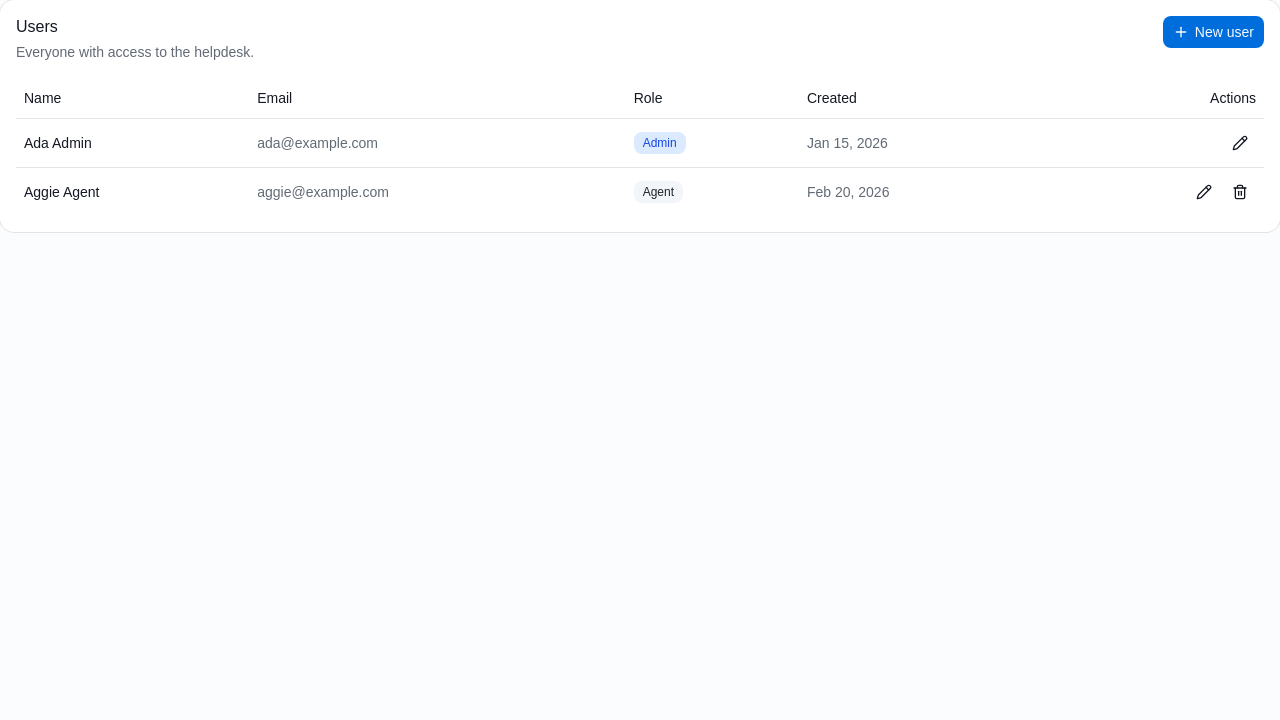
UsersPage › the New user dialog › opens when the New user button is clicked
Click the button "New user": (1213, 32) [1163,16,1264,48]
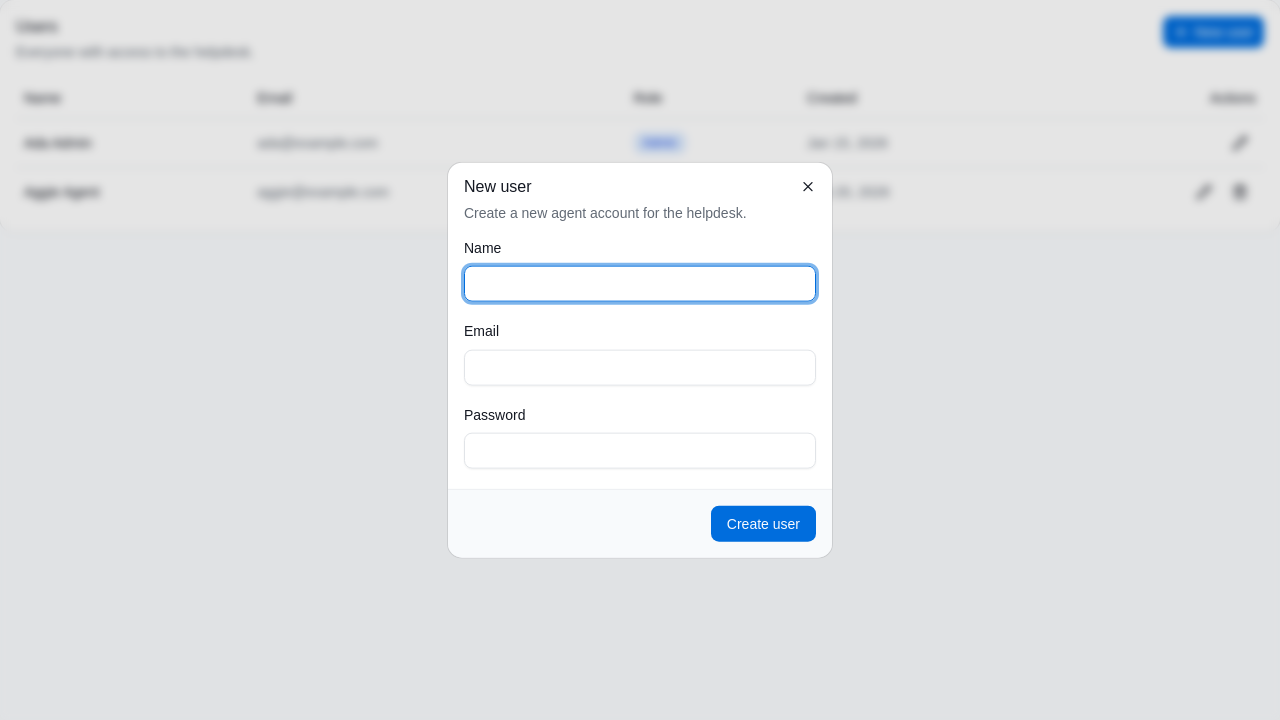
Expected: the text "Create a new agent account for the helpdesk." is shown, [464,205,746,221]
